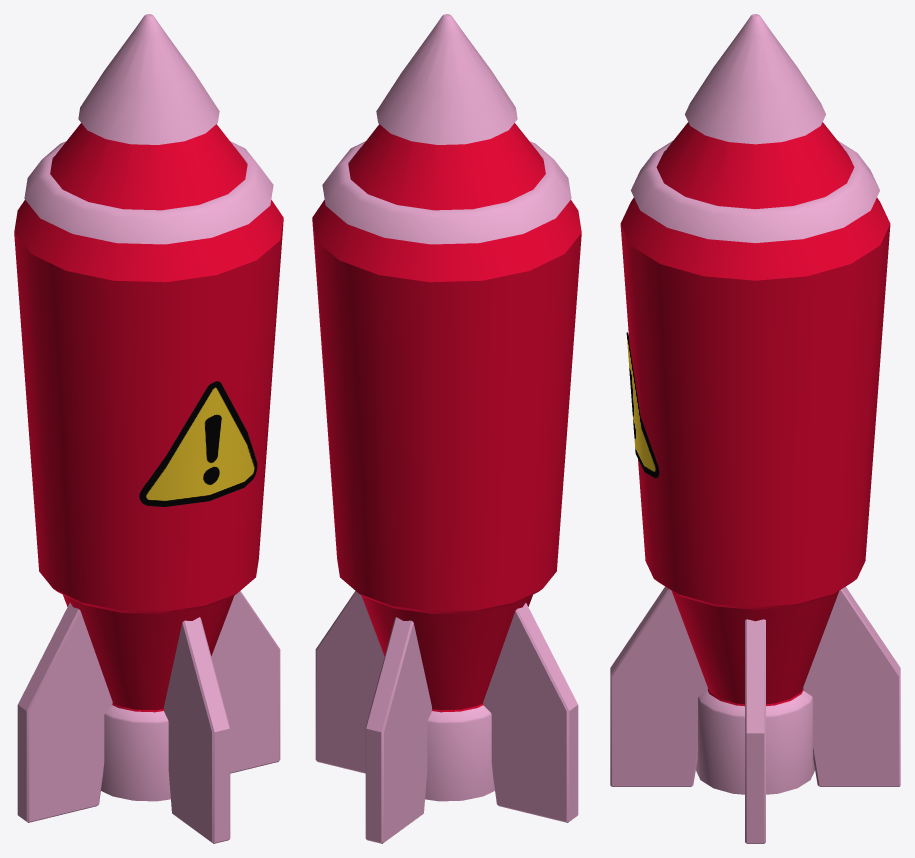
File: Bomb_4.fbx
3 renders of one model, left to right at view 1: azimuth 30°, elevation 25°; view 2: azimuth 150°, elevation 25°; view 3: azimuth 270°, elevation 25°, orthographic.
Visible parts, largest first — view 1: Body_Lv4, Motor_Lv4, Head_Lv4; view 2: Body_Lv4, Motor_Lv4, Head_Lv4; view 3: Body_Lv4, Motor_Lv4, Head_Lv4.
Boxes of the visible parts, left/top/right/bottom form: Body_Lv4: left=14, top=220, right=283, bottom=613; Motor_Lv4: left=17, top=591, right=280, bottom=843; Head_Lv4: left=14, top=14, right=283, bottom=282; Body_Lv4: left=312, top=220, right=581, bottom=613; Motor_Lv4: left=315, top=591, right=578, bottom=843; Head_Lv4: left=312, top=14, right=581, bottom=282; Body_Lv4: left=620, top=224, right=890, bottom=609; Motor_Lv4: left=610, top=586, right=900, bottom=843; Head_Lv4: left=620, top=14, right=890, bottom=280.
Size of the model in its own units: 2.31 by 6.72 by 2.31.
